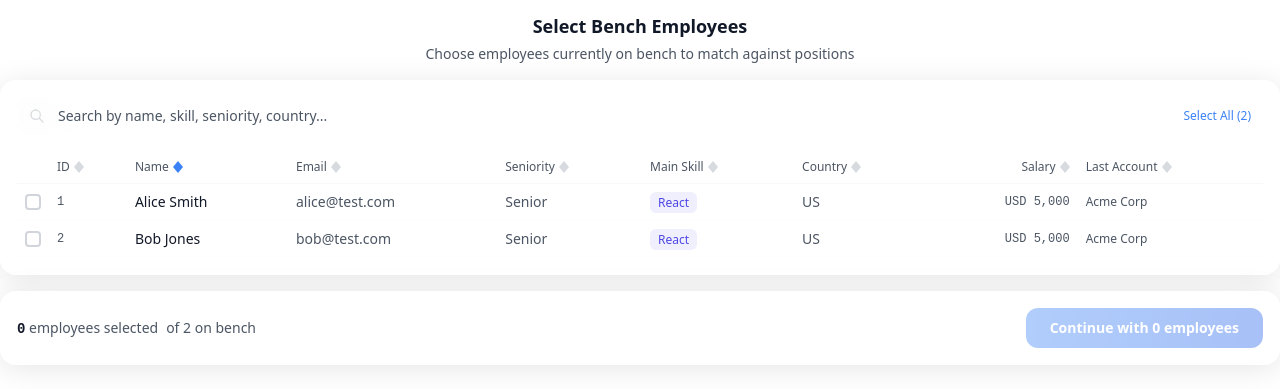
Scenario: BenchEmployeeSelector › should filter employees by search text
Expected: the text "Alice Smith" is shown, [127, 184, 288, 220]
Type "bob" into the field with placeholder "Search by name, skill, seniority, country..." at (588, 116), box [17, 97, 1160, 135]
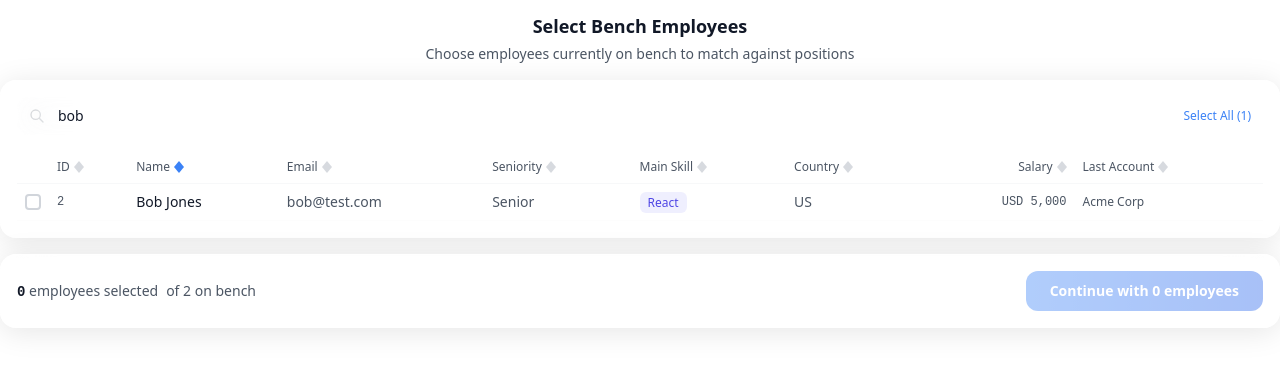
Expected: the text "Bob Jones" is shown, [128, 184, 279, 220]
Expected: the text "Alice Smith" is gone
